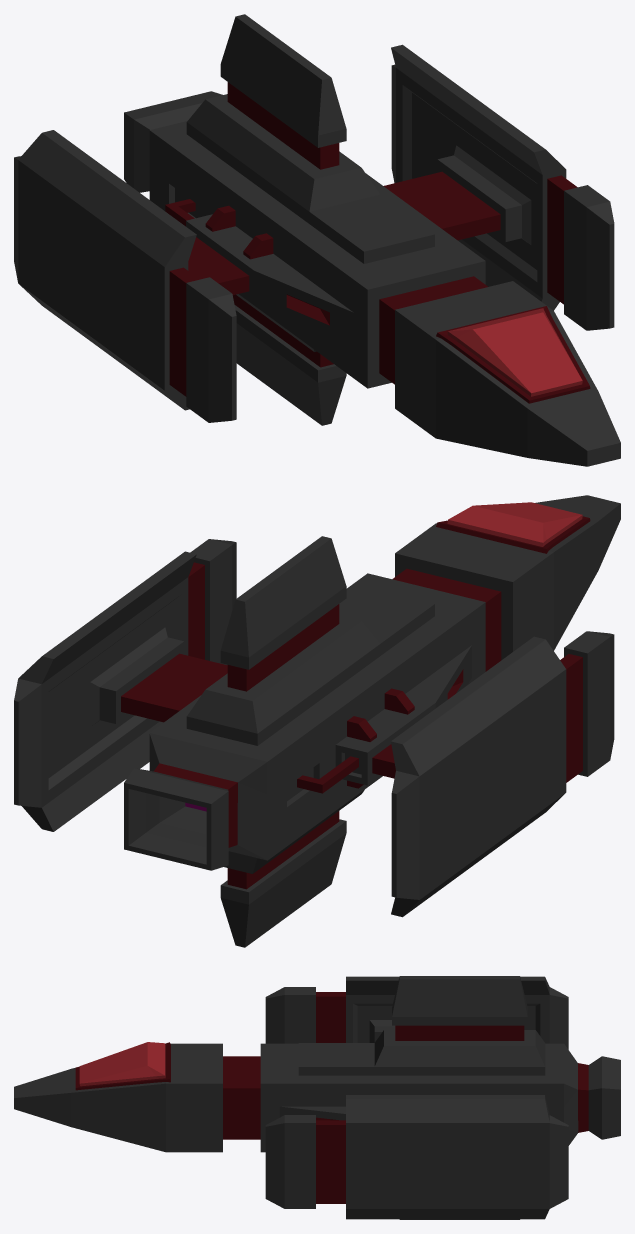
The model's file is MainShip.fbx.
3 renders of one model, top to bottom at view 1: azimuth 30°, elevation 25°; view 2: azimuth 150°, elevation 25°; view 3: azimuth 270°, elevation 25°, orthographic. The views are drawn at different scales.
Visible parts, largest first — view 1: Fighter_1; view 2: Fighter_1; view 3: Fighter_1.
Part boxes in pixels (x1=…): Fighter_1: x1=14, y1=14, x2=620, y2=466; Fighter_1: x1=14, y1=495, x2=620, y2=947; Fighter_1: x1=14, y1=976, x2=620, y2=1219.
Bounding box in the file's own units: 34 × 28 × 64.04.
